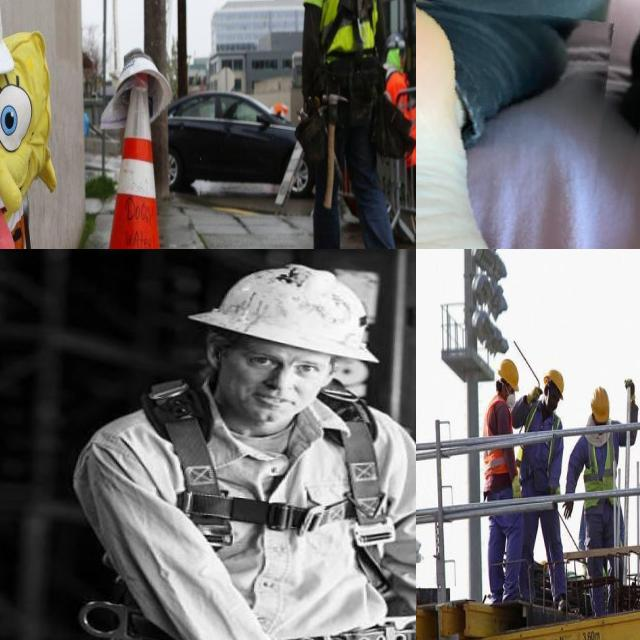Barefoots: (416, 0, 493, 249)
Harness: (143, 380, 396, 548)
face_nomask: (547, 389, 560, 414)
hand_glove: (623, 374, 639, 404), (562, 491, 574, 526), (526, 384, 542, 408)
head_helmet: (588, 387, 610, 422), (498, 358, 520, 388), (545, 365, 567, 395)
person: (305, 0, 398, 249), (578, 392, 638, 598), (520, 370, 566, 596), (480, 364, 516, 612)
vest: (311, 0, 378, 47), (582, 430, 618, 498), (527, 414, 565, 478), (387, 77, 416, 157), (480, 399, 510, 469)
